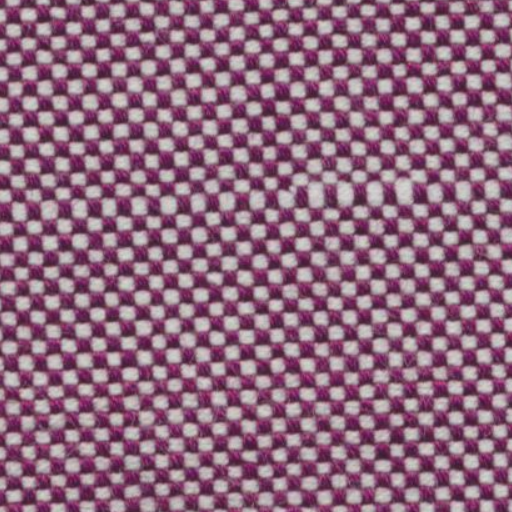TuoSha: (17, 162, 496, 234)
